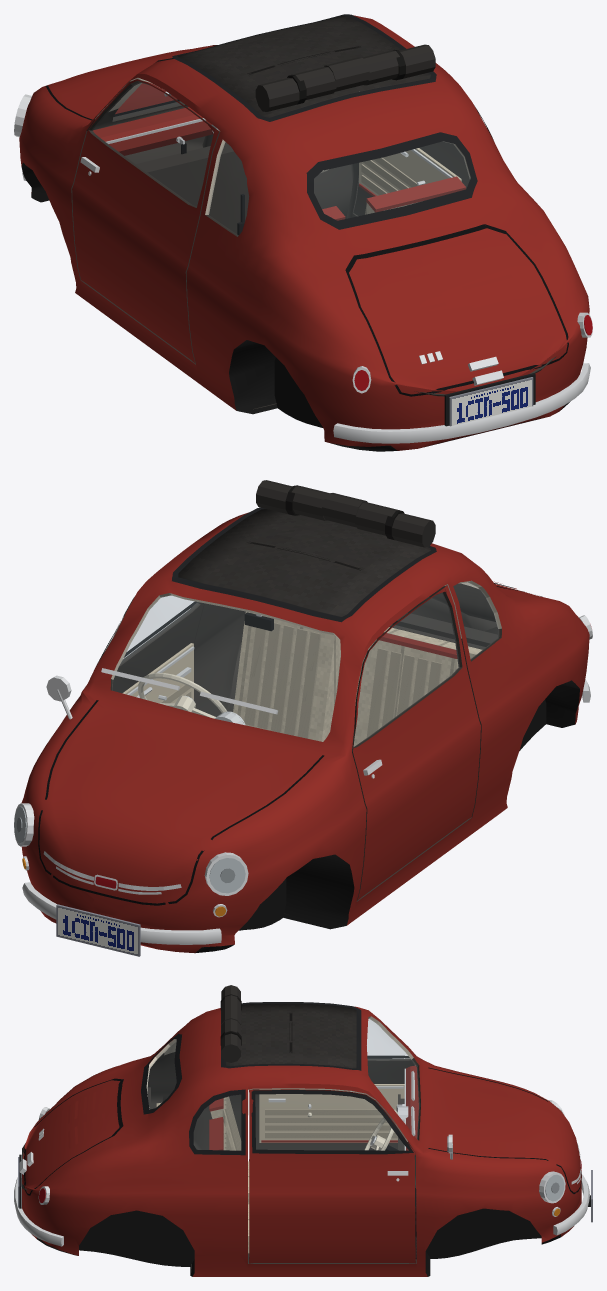
Rendered from classic_d.glb.
3 views of the same model, one above another, from view 1: azimuth 30°, elevation 25°; view 2: azimuth 150°, elevation 25°; view 3: azimuth 270°, elevation 25° (orthographic). The views are drawn at different scales.
Parts seen in each view (by area): view 1: Body, Door_L, Glass, Interior, Roof_Closed, Door_L_Glass, Roof_Open, Door_R; view 2: Body, Glass, Interior, Door_L, Roof_Closed, Door_L_Glass, Roof_Open, Door_R, Lights_Head, SteeringWheel; view 3: Body, Door_R, Door_L, Roof_Closed, Door_R_Glass, Glass, Interior, Roof_Open, SteeringWheel.
Boxes of the visible parts, x1,y1,x2,y2 form: Body: [14, 14, 592, 451]; Door_L: [72, 79, 219, 363]; Glass: [150, 83, 469, 235]; Interior: [93, 107, 466, 235]; Roof_Closed: [178, 16, 430, 117]; Door_L_Glass: [92, 83, 212, 206]; Roof_Open: [255, 44, 435, 111]; Door_R: [353, 141, 469, 215]; Body: [14, 507, 592, 956]; Glass: [112, 582, 498, 741]; Interior: [181, 611, 497, 746]; Door_L: [352, 585, 480, 900]; Roof_Closed: [178, 509, 430, 616]; Door_L_Glass: [354, 593, 459, 746]; Roof_Open: [256, 480, 435, 547]; Door_R: [90, 597, 203, 703]; Lights_Head: [14, 806, 245, 893]; SteeringWheel: [138, 672, 226, 718]; Body: [14, 1002, 592, 1276]; Door_R: [249, 1089, 415, 1263]; Door_L: [249, 1055, 414, 1160]; Roof_Closed: [225, 1003, 356, 1068]; Door_R_Glass: [256, 1094, 407, 1149]; Glass: [147, 1018, 419, 1149]; Interior: [147, 1065, 418, 1262]; Roof_Open: [220, 985, 241, 1062]; SteeringWheel: [364, 1109, 397, 1150].
Size of the model in its own units: 1.32 by 1.29 by 3.07.
Materials: 27 (6 with a texture image).
